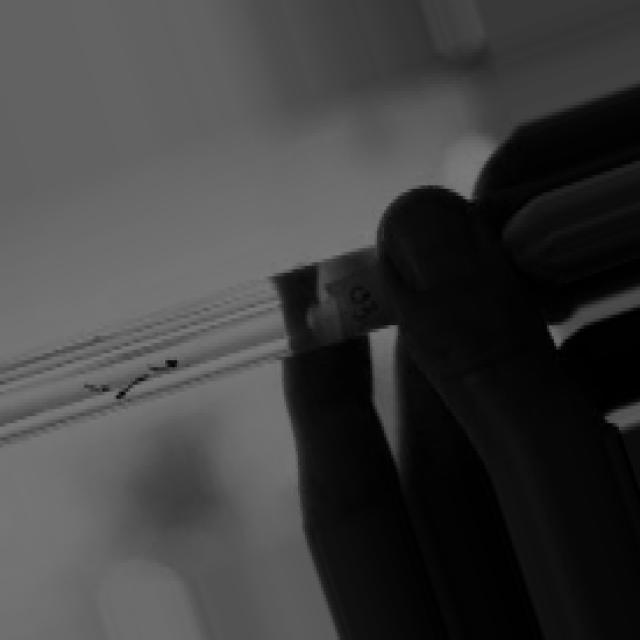larvas: (113, 370, 151, 401), (151, 358, 180, 374), (81, 383, 111, 396)
